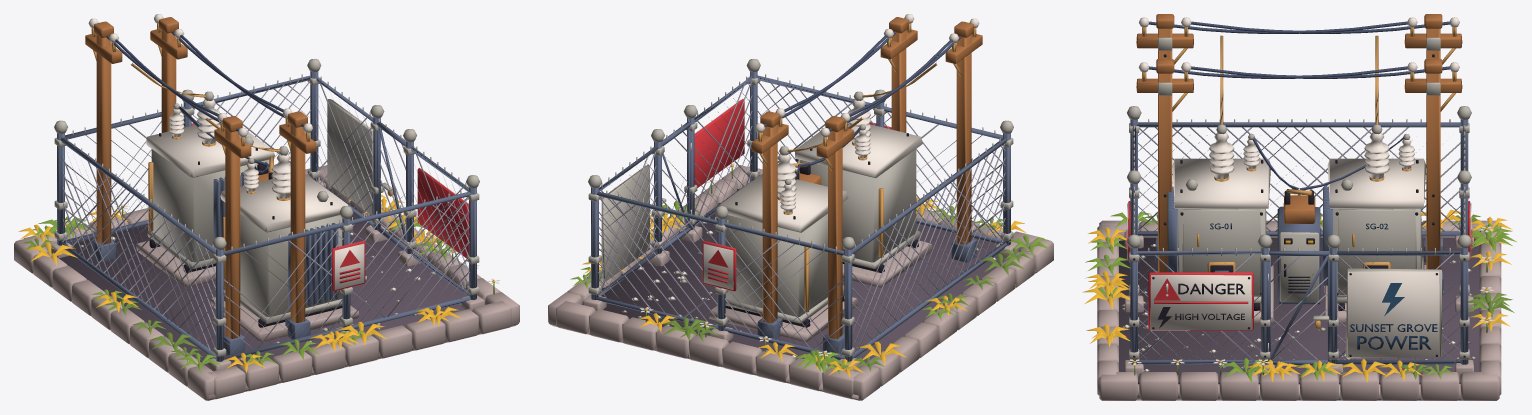
The picture shows the model from 3 angles, left to right: view 1: azimuth 30°, elevation 25°; view 2: azimuth 150°, elevation 25°; view 3: azimuth 270°, elevation 25°; orthographic projection. The views are drawn at different scales.
Parts seen in each view (by area): view 1: object 2, door_gate; view 2: object 2, door_gate; view 3: object 2, door_gate.
Boxes of the visible parts, left/top/right/bottom form: object 2: left=14, top=14, right=519, bottom=400; door_gate: left=377, top=119, right=405, bottom=250; object 2: left=548, top=14, right=1053, bottom=400; door_gate: left=662, top=119, right=691, bottom=250; object 2: left=1082, top=14, right=1516, bottom=400; door_gate: left=1268, top=247, right=1329, bottom=364.
Size of the model in its own units: 6.67 by 4.54 by 7.02.
